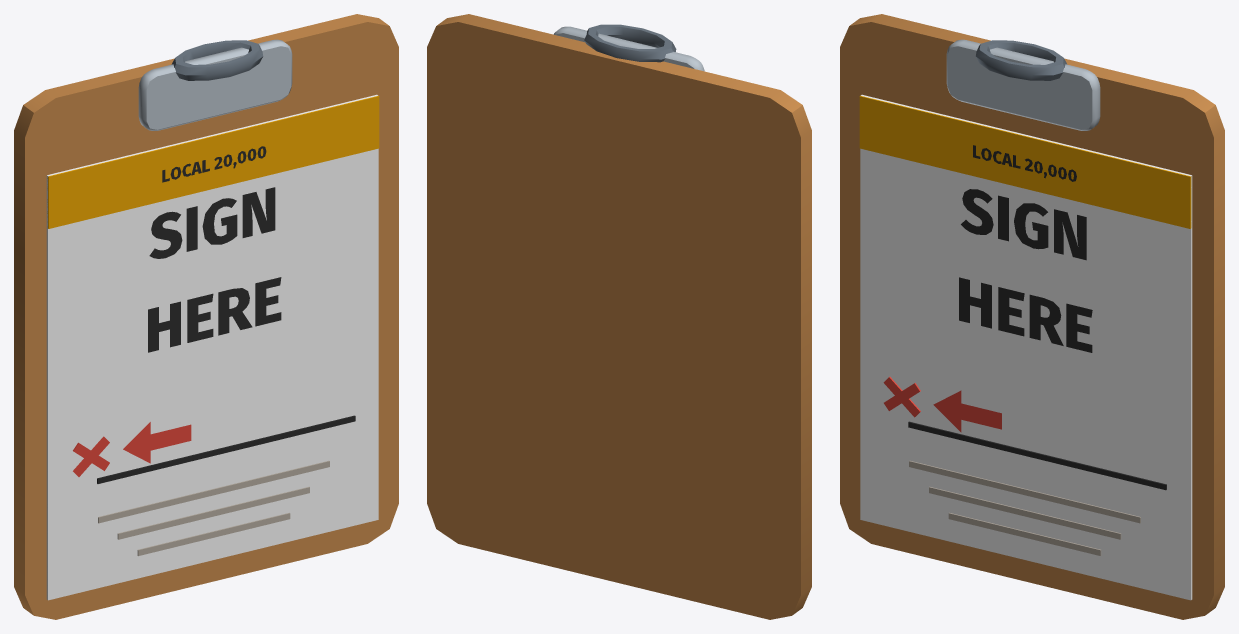
The model's file is clipboard_sign.fbx.
3 views of the same model, side by side, from view 1: azimuth 30°, elevation 25°; view 2: azimuth 150°, elevation 25°; view 3: azimuth 330°, elevation 25° (orthographic).
Parts seen in each view (by area): view 1: Board; view 2: Board; view 3: Board.
Boxes of the visible parts, x1,y1,x2,y2 form: Board: (14,14,398,619); Board: (427,14,811,619); Board: (840,14,1224,619).
Size of the model in its own units: 0.12 by 0.1631 by 0.0169.
1 material, 1 textured.
